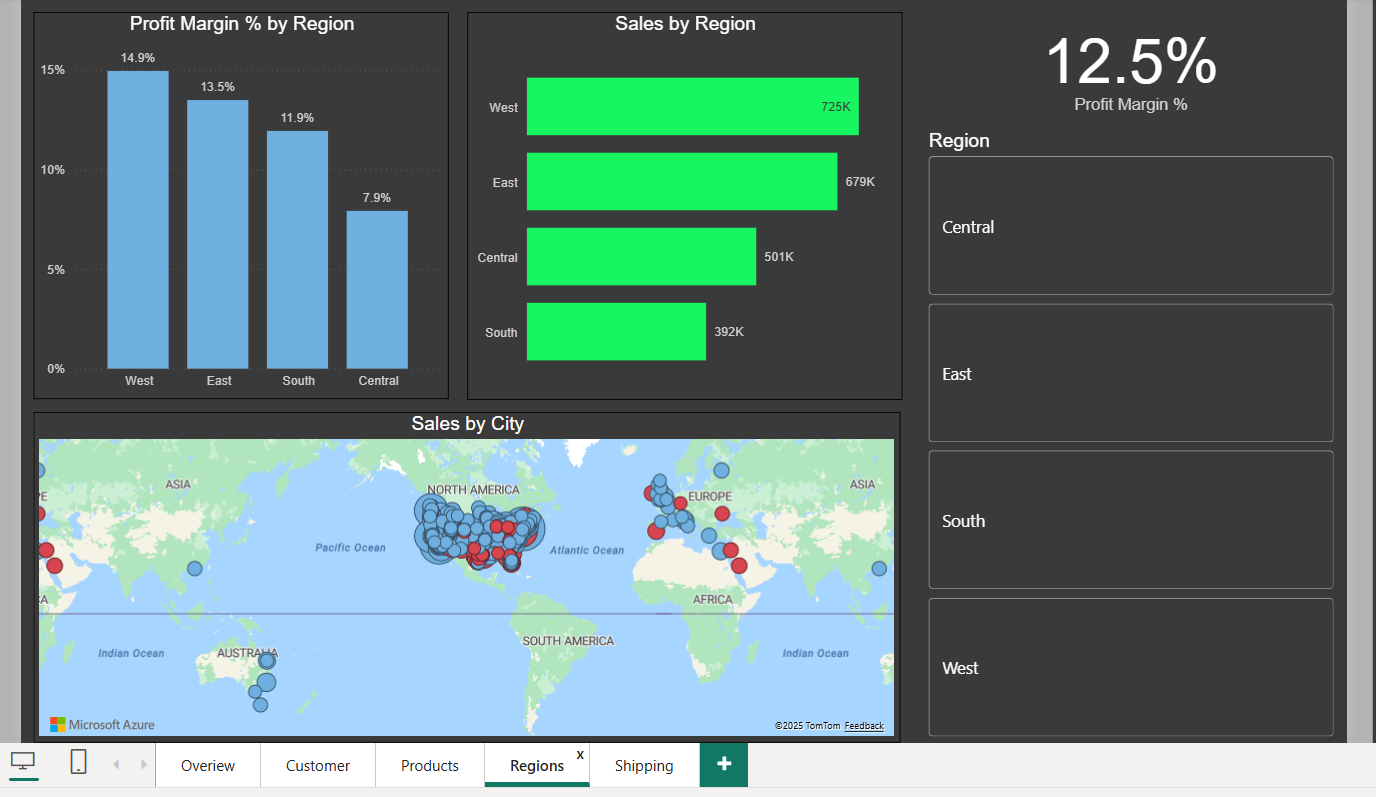

Layout of this report page (visuals, bound fields, positions):
{"tool":"powerbi","page":{"name":"Regions","canvas":[1280,720],"ordinal":3},"visuals":[{"type":"azureMap","title":"Sales by City","fields":{"Category":["Orders.City"],"Size":["Orders.Total Sales"]},"box":[12.5,401,836.9,318.8],"z":0},{"type":"barChart","title":"Sales by Region","fields":{"Category":["Orders.Region"],"Y":["Orders.Total Sales"]},"box":[430.1,14.4,420.1,374],"z":1000},{"type":"columnChart","fields":{"Category":["Orders.Region"],"Y":["Orders.Profit Margin %"]},"box":[12.5,14.9,401,373.6],"z":2000},{"type":"card","fields":{"Values":["Orders.Profit Margin %"]},"box":[870.5,14.9,401,103.4],"z":3000},{"type":"advancedSlicerVisual","fields":{"Values":["Orders.Region"]},"box":[870.5,128.3,401,591.6],"z":4000}]}

Visuals, with their boxes on the page's 1280x720 design canvas (x1, y1, x2, y2). These are canvas units, not pixel positions in the 1376x797 screenshot, which may show the page scaled, cropped or inside an application window:
"Sales by City" azureMap: 12,401,849,720
"Sales by Region" barChart: 430,14,850,388
columnChart - Orders.Region x Orders.Profit Margin %: 12,15,414,388
card - Orders.Profit Margin %: 870,15,1272,118
advancedSlicerVisual - Orders.Region: 870,128,1272,720
